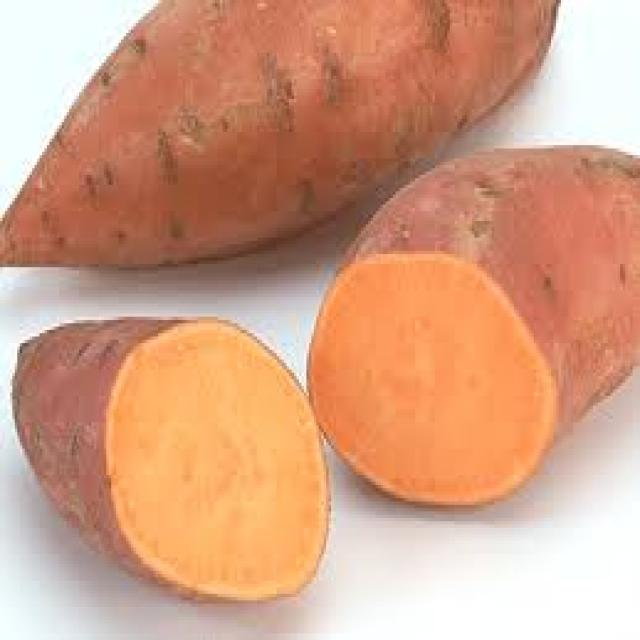sweet potato: (0, 0, 633, 620)
